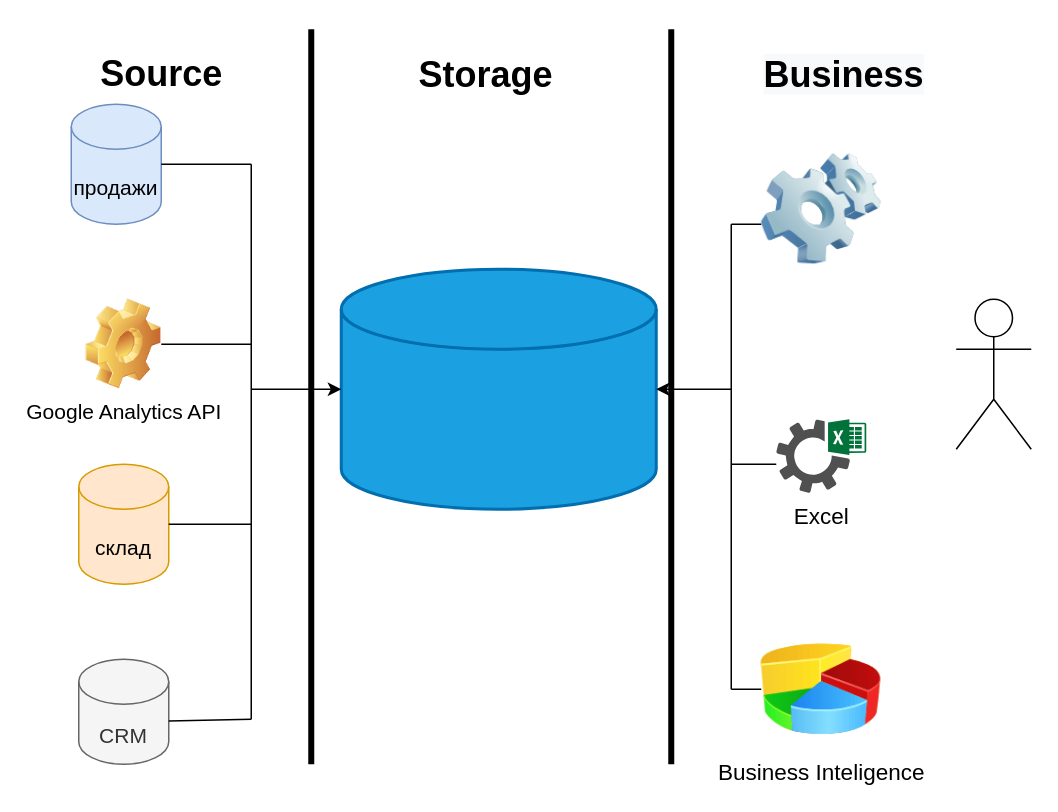
Image size: 1058x812. Some labels were removed from this diagram. The centre of each missing label's shape, as x and y in pixels:
SQL: pixel 820 208
User: pixel 993 373
Хранилище данных: pixel 498 388
